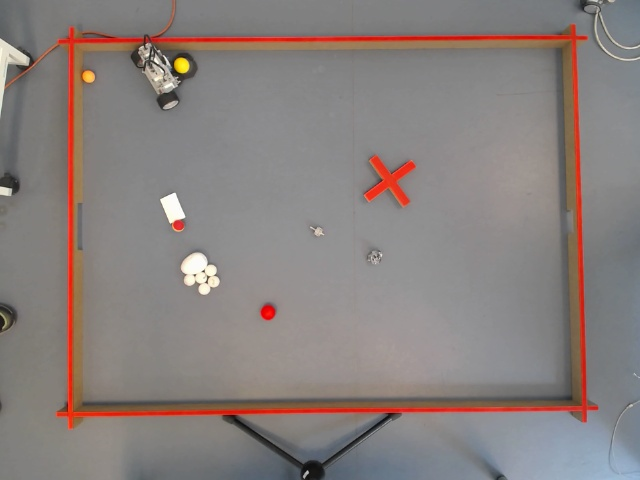big_goal: (67, 198, 84, 249)
cross: (360, 153, 418, 207)
egg: (178, 251, 206, 273)
orange: (80, 69, 99, 84)
robot: (129, 43, 199, 112)
small_goal: (561, 207, 578, 234)
wall: (556, 20, 590, 420), (55, 396, 601, 417), (57, 30, 590, 51), (68, 24, 90, 428)
white: (206, 273, 221, 287), (182, 273, 196, 287), (203, 261, 216, 276), (196, 282, 211, 294), (196, 270, 208, 284)
